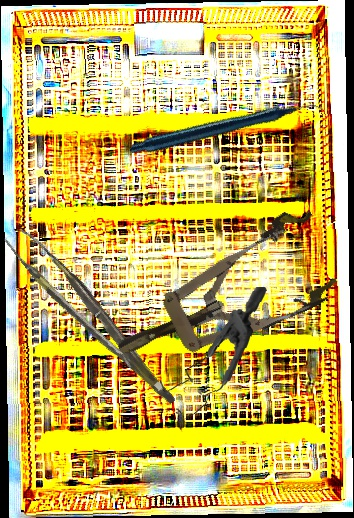Handpiece: (129, 45, 324, 215)
Speculum: (97, 202, 349, 392), (157, 278, 267, 426)
Tissue Forceps: (3, 216, 176, 423)
